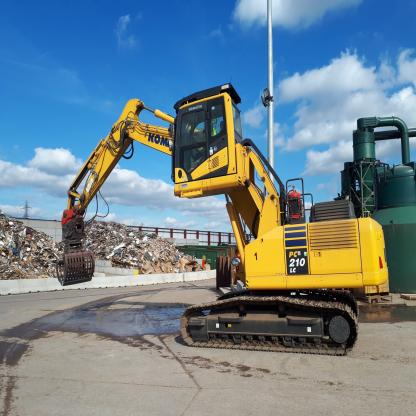excavator: (37, 64, 386, 362)
